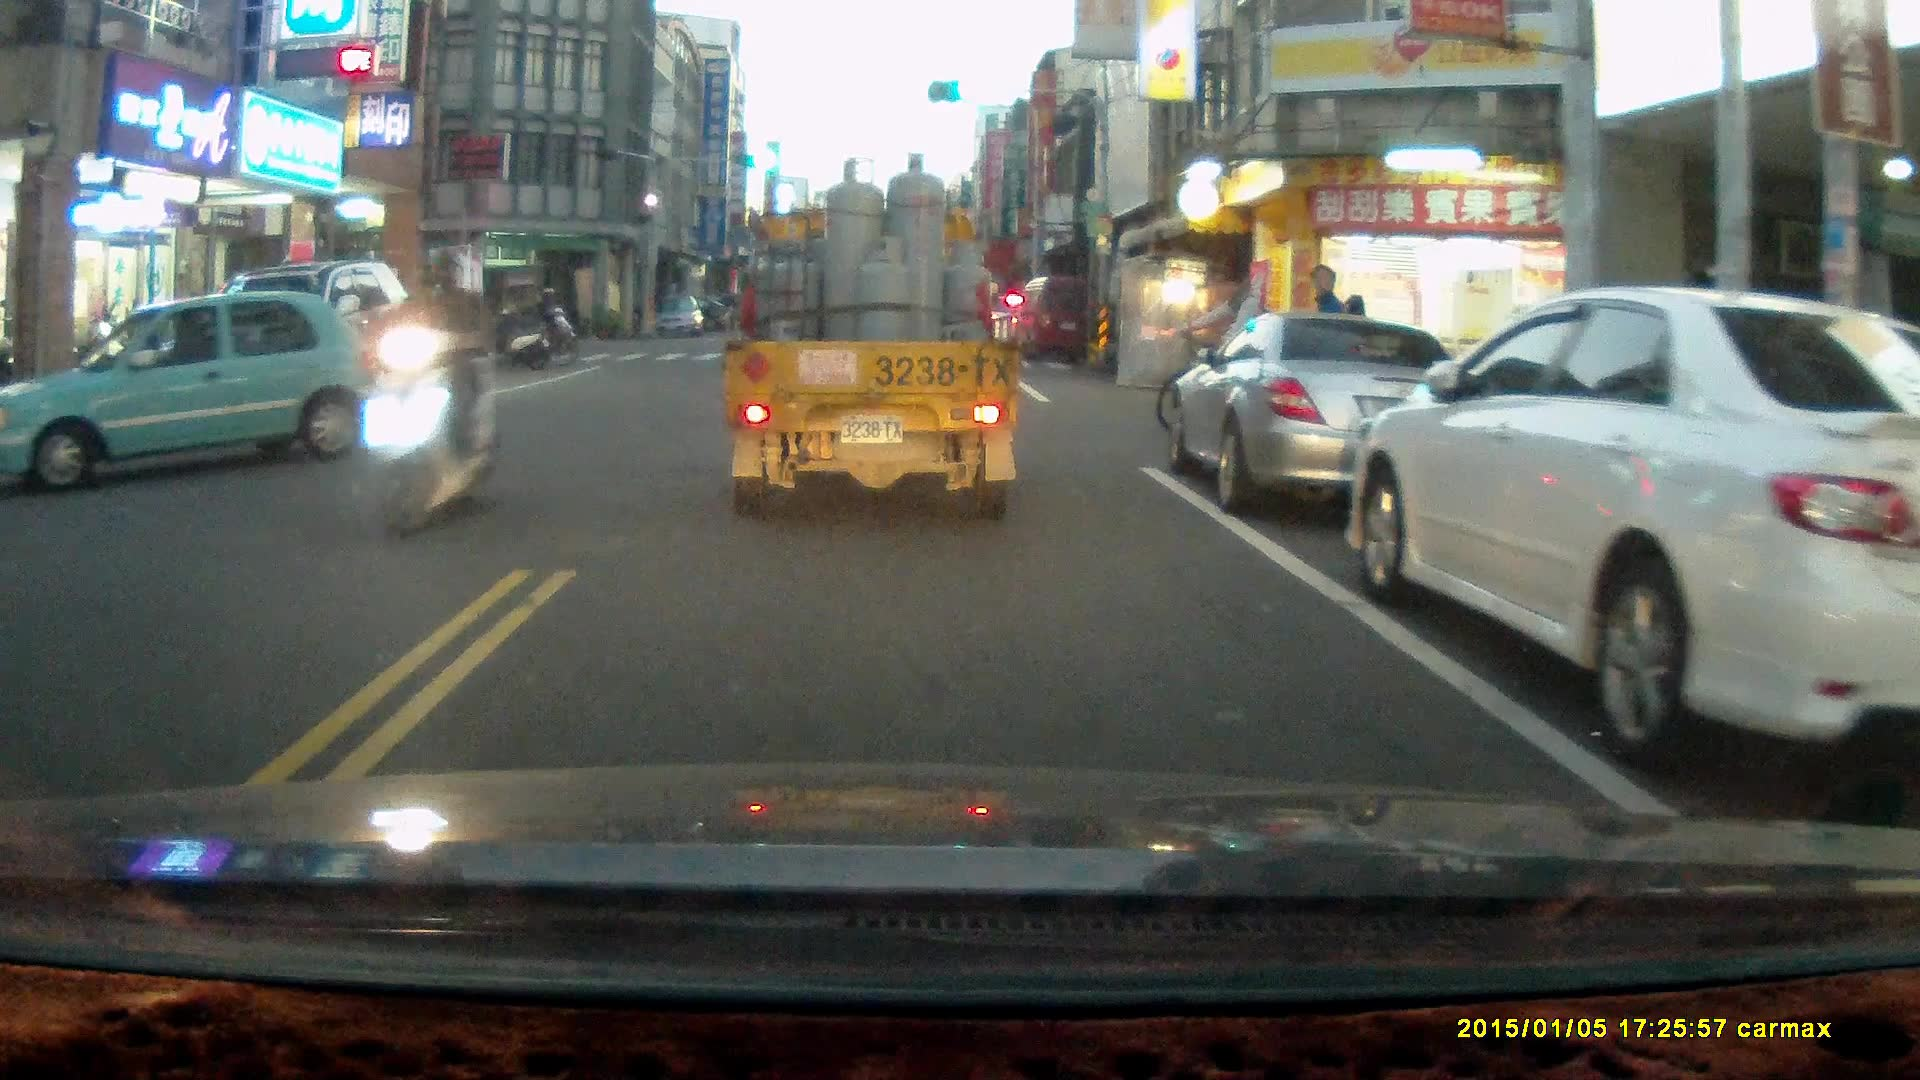rider: (356, 242, 498, 546), (1156, 272, 1316, 450), (519, 286, 582, 357)
vehicle: (1355, 283, 1920, 773), (726, 153, 1019, 521), (1, 288, 361, 494), (1162, 311, 1489, 513), (1015, 270, 1116, 361), (653, 294, 707, 341)
